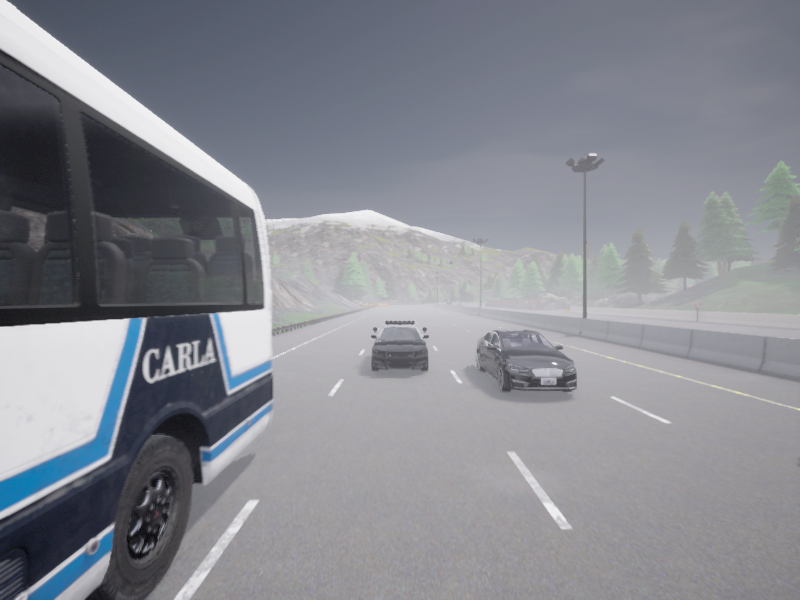vehicle: (0, 0, 273, 599), (476, 329, 576, 392), (371, 320, 428, 371), (457, 302, 462, 305), (446, 302, 449, 304)
